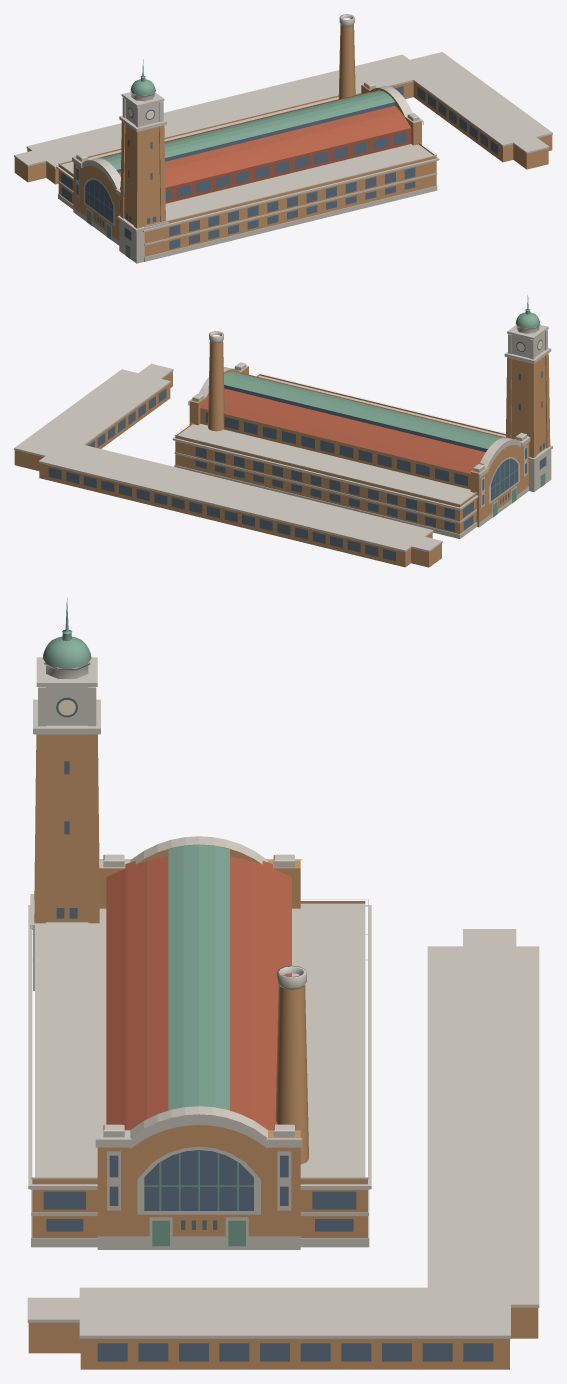
File: cle-west-side-market.glb
3 views of the same model, one above another, from view 1: azimuth 30°, elevation 25°; view 2: azimuth 150°, elevation 25°; view 3: azimuth 270°, elevation 25° (orthographic). The views are drawn at different scales.
Parts seen in each view (by area): view 1: West Side Market; view 2: West Side Market; view 3: West Side Market.
Part boxes in pixels (bbox=[...]): West Side Market: bbox=[14, 14, 552, 263]; West Side Market: bbox=[14, 295, 552, 567]; West Side Market: bbox=[27, 598, 539, 1369].
Bounding box in the file's own units: 110 × 47.5 × 57.94.
